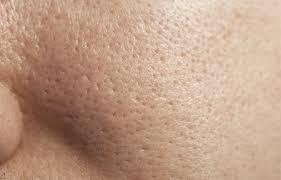Englarged-Pores: (32, 13, 237, 137)
